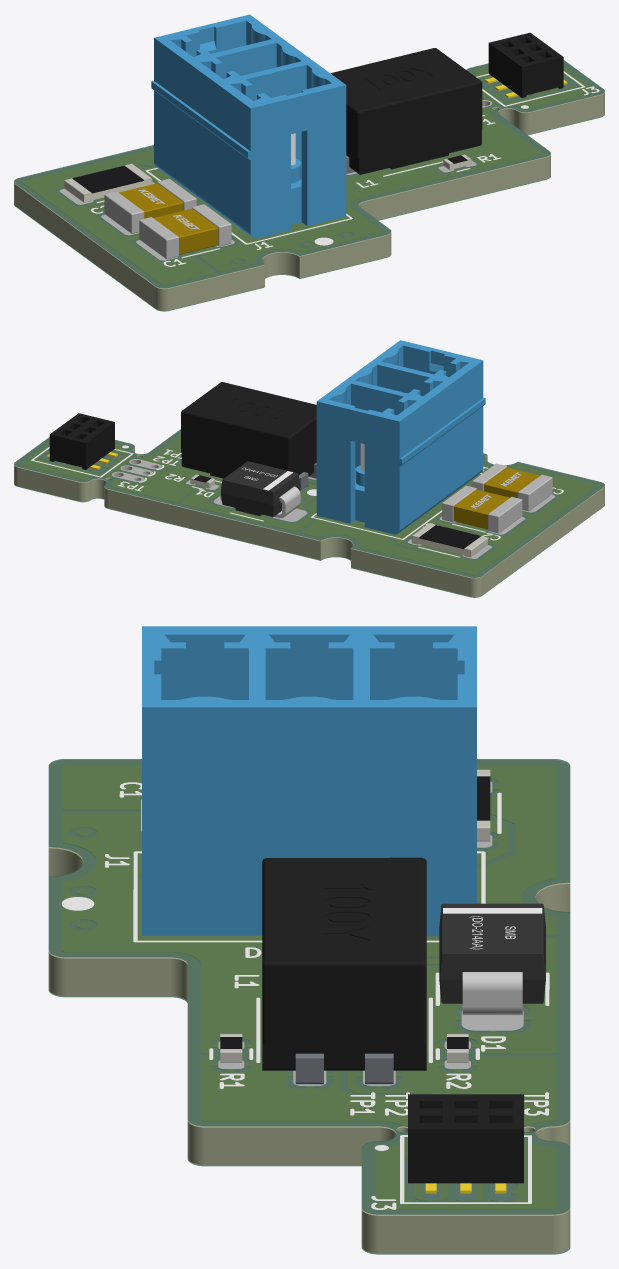
The model's file is minimal_spoe_hybrid.glb.
The picture shows the model from 3 angles, top to bottom: view 1: azimuth 30°, elevation 25°; view 2: azimuth 150°, elevation 25°; view 3: azimuth 270°, elevation 25°; orthographic projection. The views are drawn at different scales.
Visible parts, largest first — view 1: J1, =>[0:1:1:17], =>[0:1:1:18], =>[0:1:1:1] (×3), =>[0:1:1:13], =>[0:1:1:7], =>[0:1:1:2], R3, =>[0:1:1:16], =>[0:1:1:14]; view 2: J1, =>[0:1:1:17], =>[0:1:1:18], =>[0:1:1:1] (×3), =>[0:1:1:13], D1, =>[0:1:1:7], =>[0:1:1:14], R3, =>[0:1:1:16], =>[0:1:1:2]; view 3: J1, =>[0:1:1:17], =>[0:1:1:13], =>[0:1:1:18], =>[0:1:1:1], D1, =>[0:1:1:7], =>[0:1:1:16], =>[0:1:1:2], =>[0:1:1:14], R3, =>[0:1:1:6] (+1 smaller).
Boxes of the visible parts, x1,y1,x2,y2 form: J1: [151, 14, 346, 238]; =>[0:1:1:17]: [14, 60, 604, 311]; =>[0:1:1:18]: [14, 61, 604, 310]; =>[0:1:1:1] (×3): [104, 48, 482, 259]; =>[0:1:1:13]: [22, 68, 595, 285]; =>[0:1:1:7]: [488, 32, 563, 97]; =>[0:1:1:2]: [346, 124, 482, 174]; R3: [64, 164, 152, 202]; =>[0:1:1:16]: [91, 71, 599, 266]; =>[0:1:1:14]: [59, 81, 572, 260]; J1: [316, 340, 485, 534]; =>[0:1:1:17]: [14, 429, 604, 597]; =>[0:1:1:18]: [14, 430, 604, 597]; =>[0:1:1:1] (×3): [181, 382, 552, 533]; =>[0:1:1:13]: [21, 436, 597, 574]; D1: [220, 461, 300, 518]; =>[0:1:1:7]: [49, 413, 114, 469]; =>[0:1:1:14]: [42, 455, 555, 558]; R3: [411, 523, 487, 557]; =>[0:1:1:16]: [31, 445, 563, 557]; =>[0:1:1:2]: [181, 448, 316, 478]; J1: [142, 626, 476, 935]; =>[0:1:1:17]: [48, 759, 570, 1254]; =>[0:1:1:13]: [63, 765, 555, 1209]; =>[0:1:1:18]: [48, 760, 570, 1253]; =>[0:1:1:1]: [262, 857, 426, 1037]; D1: [439, 903, 545, 1015]; =>[0:1:1:7]: [408, 1094, 523, 1183]; =>[0:1:1:16]: [61, 782, 549, 1209]; =>[0:1:1:2]: [262, 1036, 426, 1070]; =>[0:1:1:14]: [218, 781, 523, 1200]; R3: [477, 769, 490, 841]; =>[0:1:1:6]: [365, 1053, 393, 1084].
Bounding box in the file's own units: 0.0394 × 0.0127 × 0.019.
